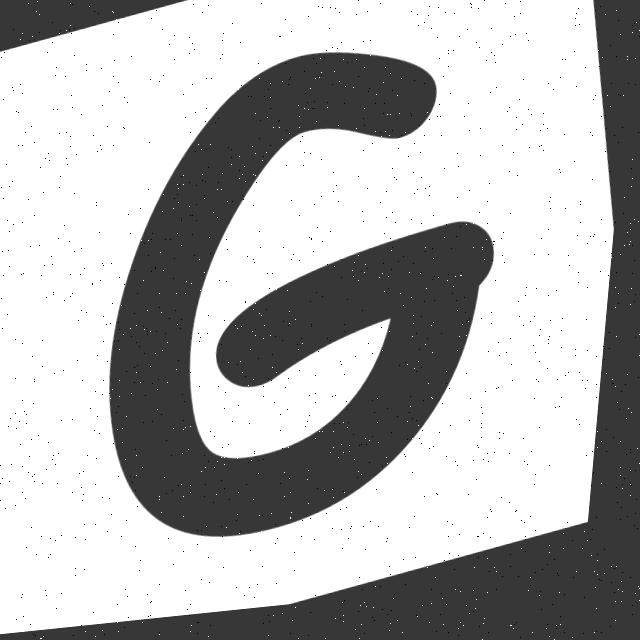G: (117, 59, 499, 542)
